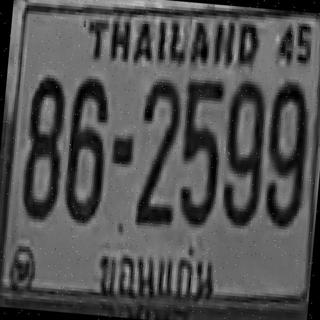N02: (132, 76, 184, 225)
N05: (174, 76, 224, 226)
N06: (61, 74, 112, 224)
N08: (18, 74, 68, 222)
N09: (260, 79, 310, 226), (217, 78, 267, 225)
P18: (88, 232, 220, 306)
